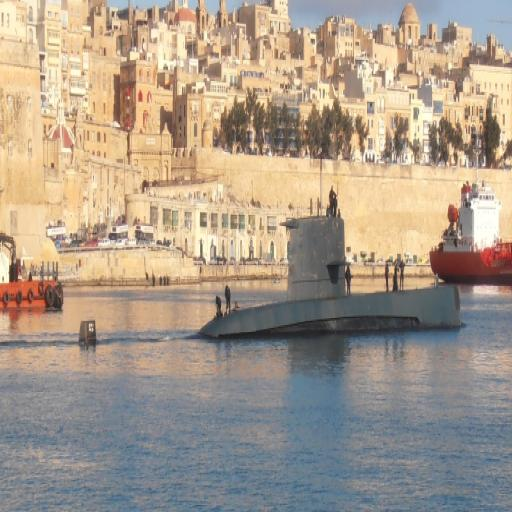submarine: (60, 213, 469, 332)
